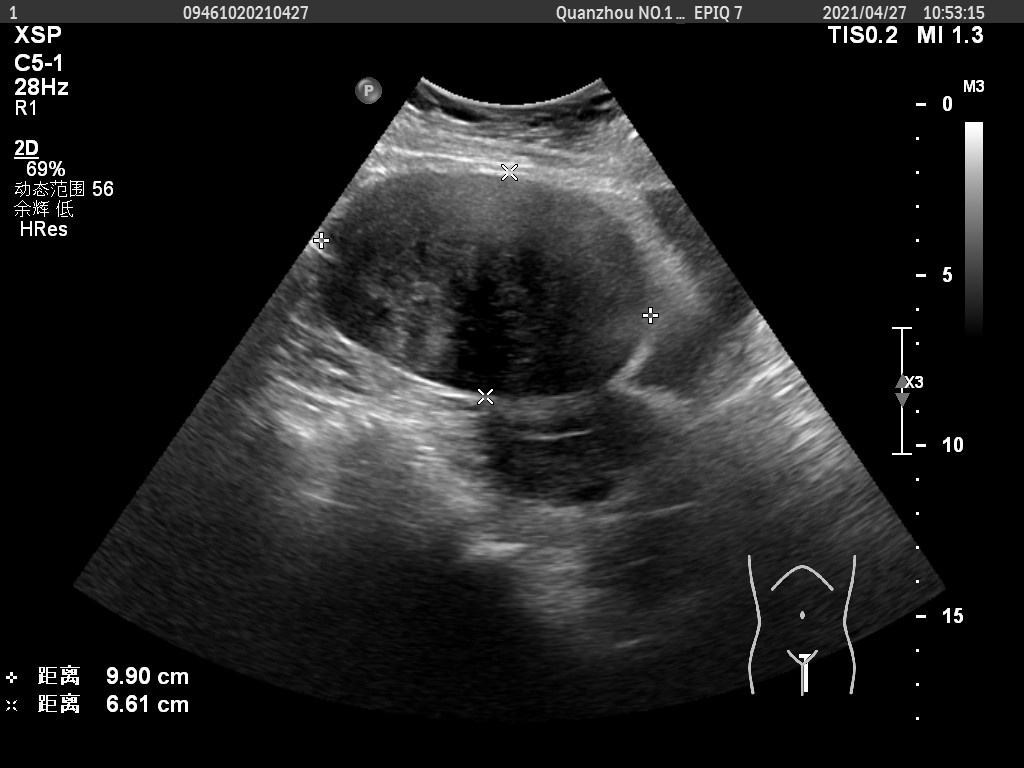肌瘤: (319, 175, 657, 398)
